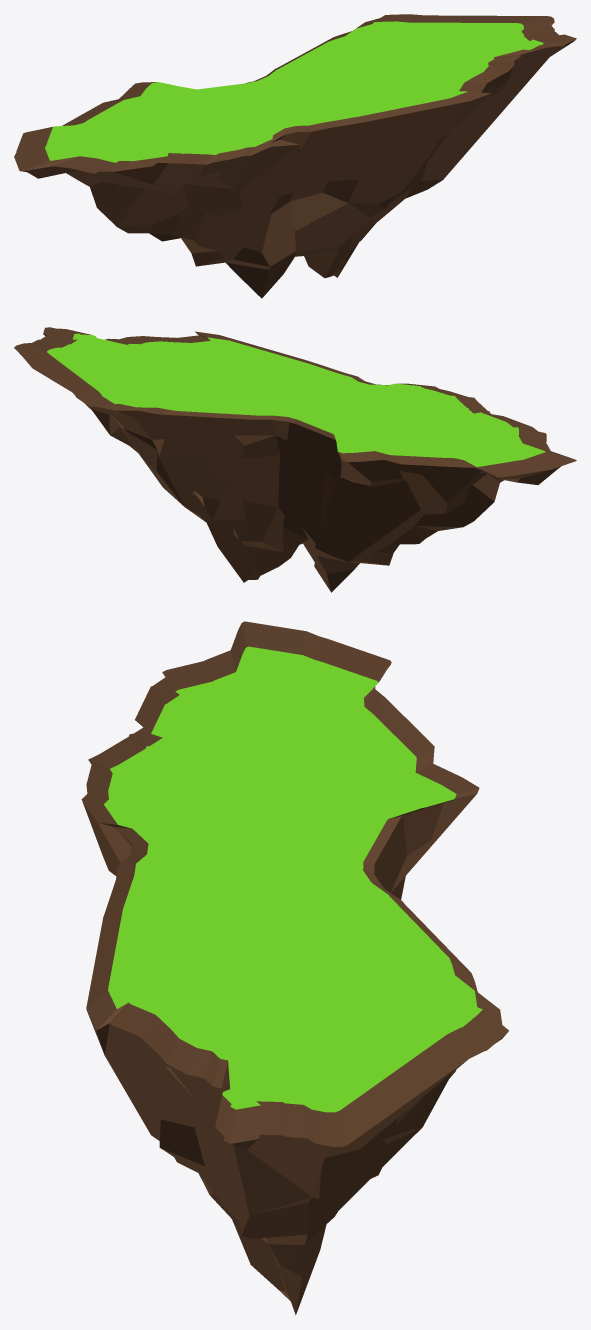
File: island 3 bald.glb
3 views of the same model, one above another, from view 1: azimuth 30°, elevation 25°; view 2: azimuth 150°, elevation 25°; view 3: azimuth 270°, elevation 25° (orthographic). The views are drawn at different scales.
Parts seen in each view (by area): view 1: Vert, Vert.001; view 2: Vert, Vert.001; view 3: Vert.001, Vert.
Boxes of the visible parts, box(x1,y1,x2,y2) form: Vert: box(14, 14, 576, 298); Vert.001: box(45, 21, 543, 162); Vert: box(14, 327, 576, 592); Vert.001: box(47, 333, 545, 466); Vert.001: box(104, 646, 482, 1112); Vert: box(81, 621, 508, 1315).
Bounding box in the file's own units: 12.03 × 4.12 × 4.14.
